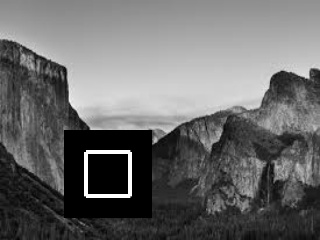square: (64, 130, 152, 217)
